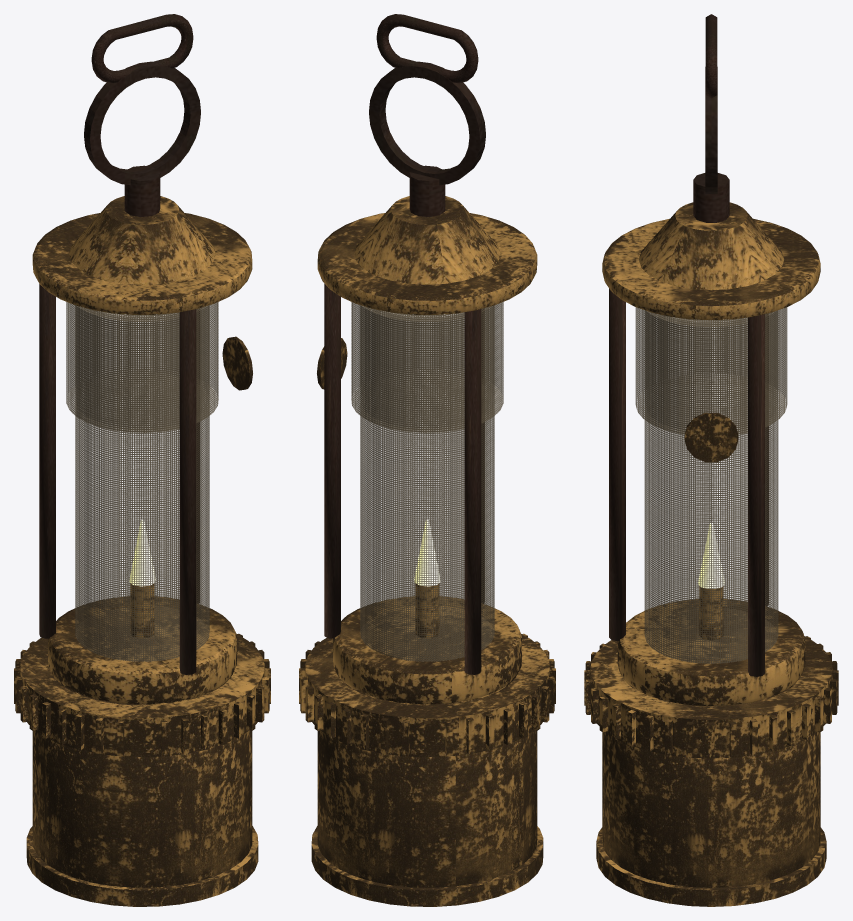
The model's file is safety-lamp.glb.
3 renders of one model, left to right at view 1: azimuth 30°, elevation 25°; view 2: azimuth 150°, elevation 25°; view 3: azimuth 270°, elevation 25°, orthographic.
Parts seen in each view (by area): view 1: lamp-body, lamp-frame, gauze, gauze-top, flame; view 2: lamp-body, lamp-frame, gauze, gauze-top, flame; view 3: lamp-body, lamp-frame, gauze, gauze-top, flame.
Boxes of the visible parts, <box> form: lamp-body: <box>14,584,270,906</box>; lamp-frame: <box>32,14,252,674</box>; gauze: <box>75,305,209,661</box>; gauze-top: <box>66,302,218,432</box>; flame: <box>129,519,155,586</box>; lamp-body: <box>299,584,555,906</box>; lamp-frame: <box>317,14,537,674</box>; gauze: <box>360,305,494,661</box>; gauze-top: <box>351,302,503,432</box>; flame: <box>414,519,440,586</box>; lamp-body: <box>584,586,838,906</box>; lamp-frame: <box>602,14,820,676</box>; gauze: <box>644,310,778,663</box>; gauze-top: <box>635,307,787,434</box>; flame: <box>698,523,724,588</box>.
Bounding box in the file's own units: 0.084 × 0.3022 × 0.084.
4 materials, 3 textured.
